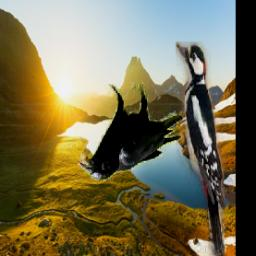Crow: (77, 84, 182, 181)
Woodpecker: (177, 42, 226, 256)
